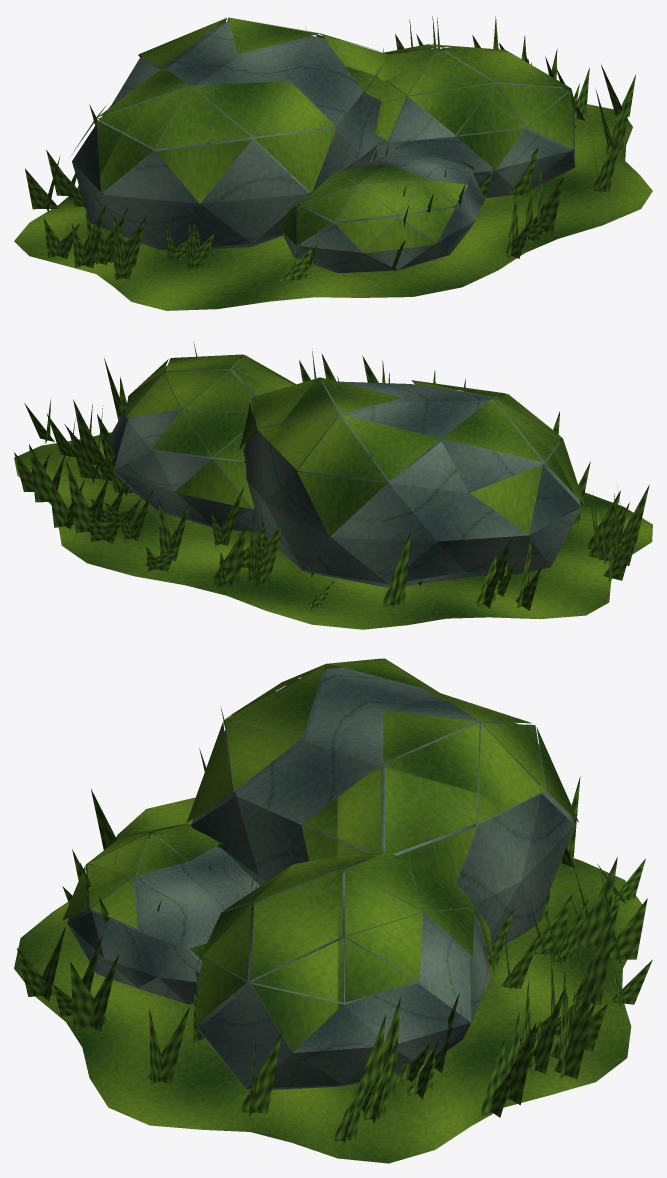
File: moss-low-patch.glb
3 renders of one model, top to bottom at view 1: azimuth 30°, elevation 25°; view 2: azimuth 150°, elevation 25°; view 3: azimuth 270°, elevation 25°, orthographic. The views are drawn at different scales.
Visible parts, largest first — view 1: moss-low-patch_props-moss, moss-low-patch_props-rock, moss-low-patch_props-grass; view 2: moss-low-patch_props-moss, moss-low-patch_props-rock, moss-low-patch_props-grass; view 3: moss-low-patch_props-moss, moss-low-patch_props-rock, moss-low-patch_props-grass.
Part boxes in pixels (left/top/right/bottom): moss-low-patch_props-moss: left=14, top=17, right=652, bottom=310; moss-low-patch_props-rock: left=72, top=21, right=575, bottom=272; moss-low-patch_props-grass: left=25, top=16, right=635, bottom=283; moss-low-patch_props-moss: left=14, top=354, right=652, bottom=629; moss-low-patch_props-rock: left=108, top=358, right=581, bottom=587; moss-low-patch_props-grass: left=14, top=341, right=649, bottom=610; moss-low-patch_props-moss: left=14, top=658, right=642, bottom=1163; moss-low-patch_props-rock: left=67, top=667, right=574, bottom=1090; moss-low-patch_props-grass: left=17, top=707, right=652, bottom=1144.
Size of the model in its own units: 1.61 by 0.4935 by 1.11.
3 materials, 3 textured.
